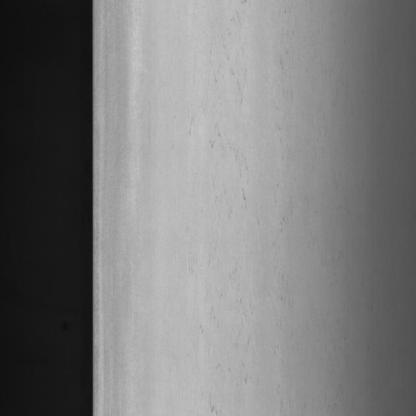silk_spot: (194, 10, 275, 414)
